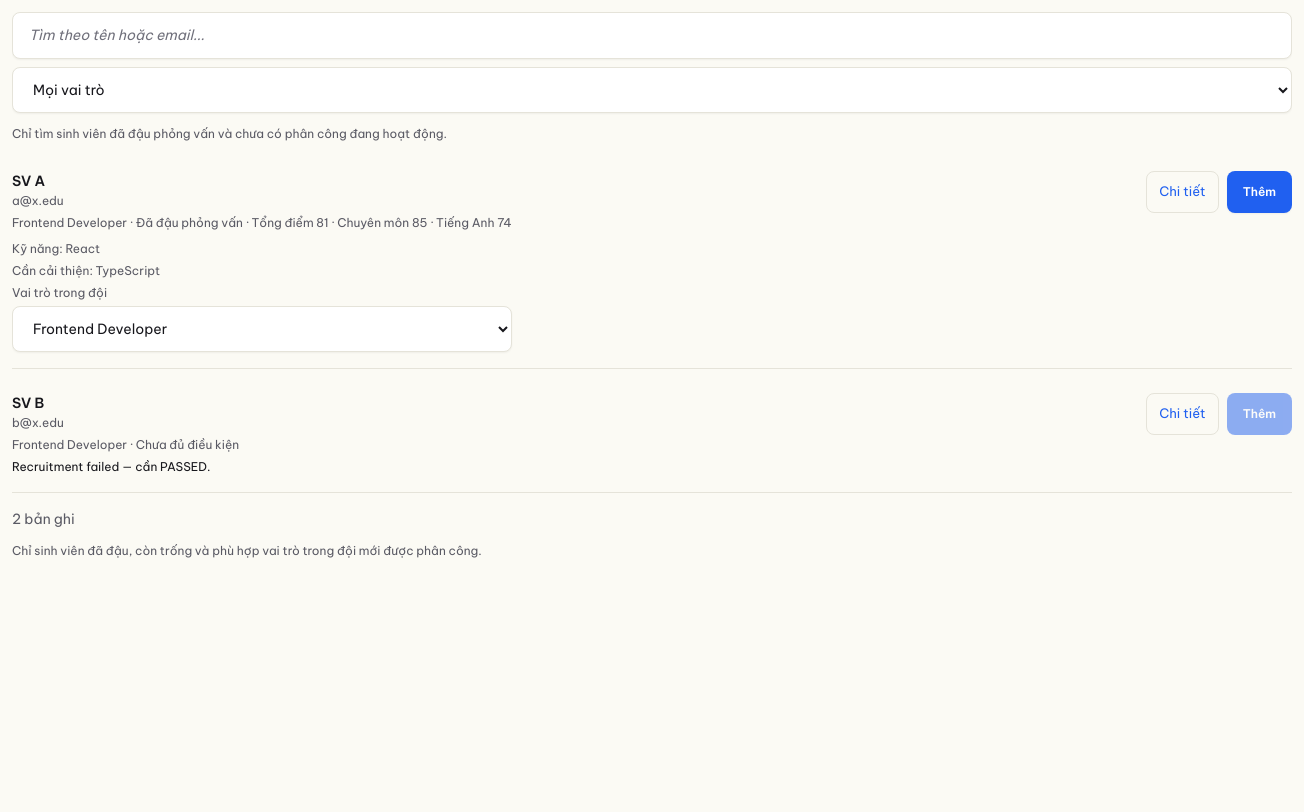
Scenario: MemberSelector (M4) › assigns with the recruited role slot so slots count the member
This screenshot has width=1304, height=812.
Expected: the text "SV A" is shown, [12,172,45,190]
Expected: the dropdown named "Vai trò cho SV A" shows "Frontend Developer", [12,306,512,352]
Click the button "Thêm" in the row of "a@x.edu". click: x=1259, y=192
box: [1227,171,1292,213]
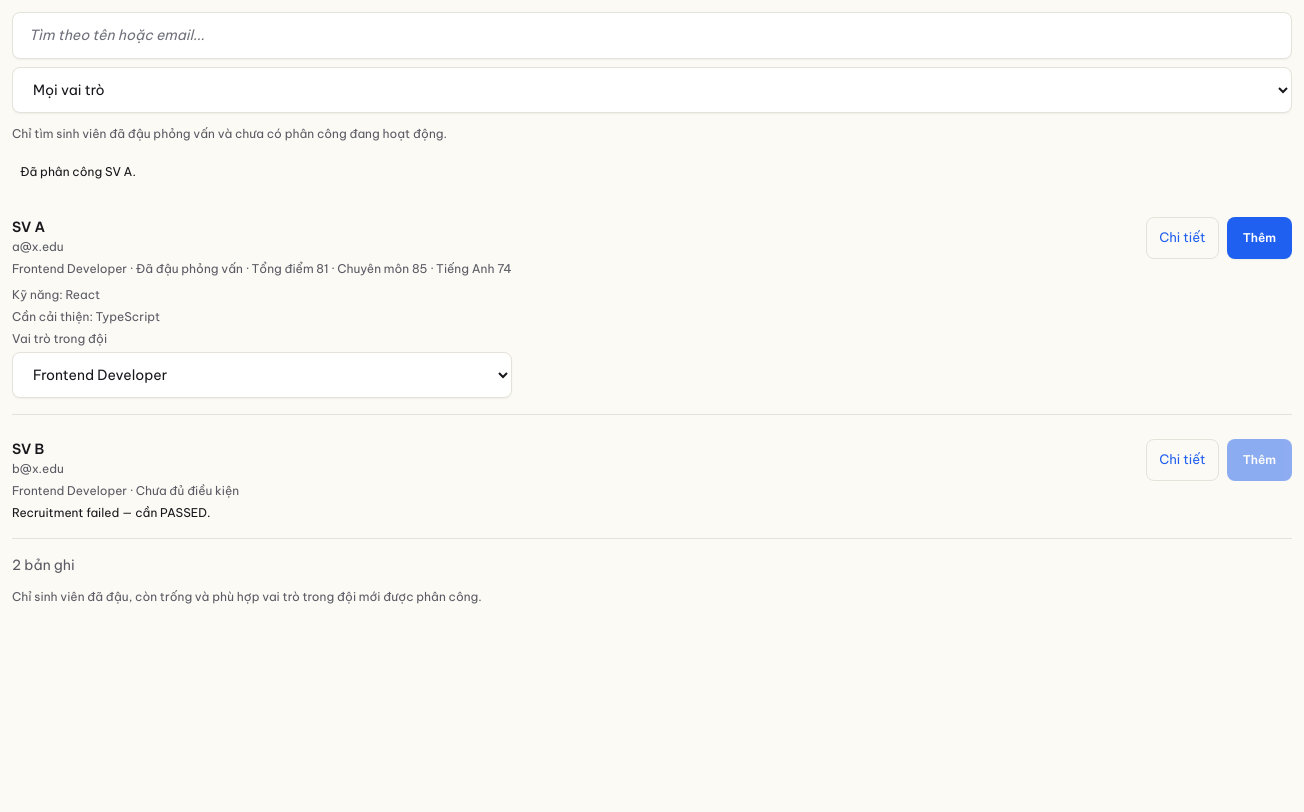
Expected: the text "Đã phân công SV A." is shown, [20,164,136,179]
